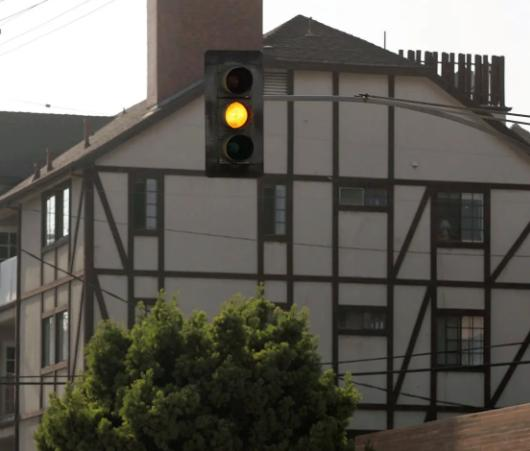yellow_light: (203, 47, 264, 178)
